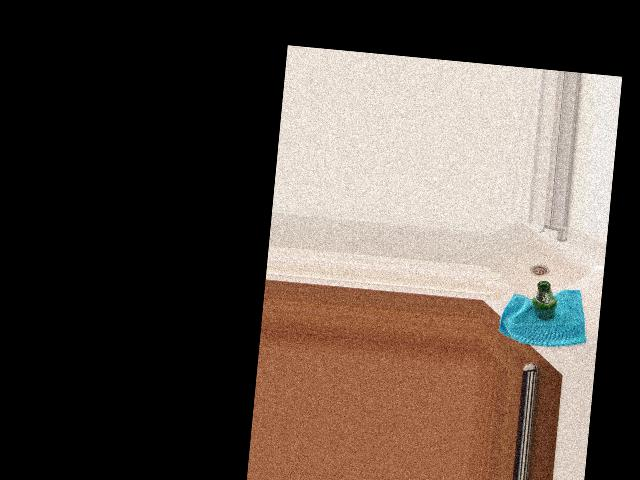beer: (530, 280, 558, 321)
